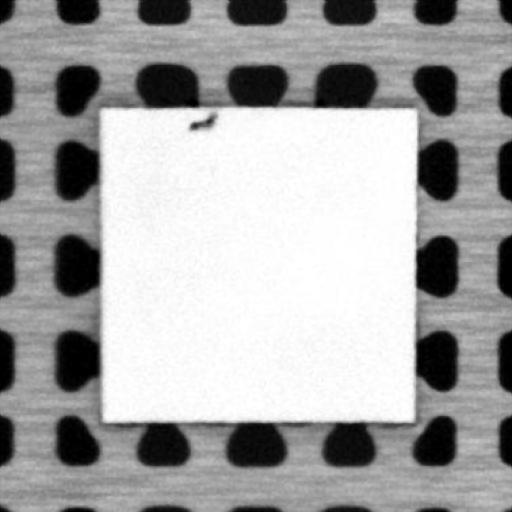DIE_INK: (186, 110, 218, 128)
